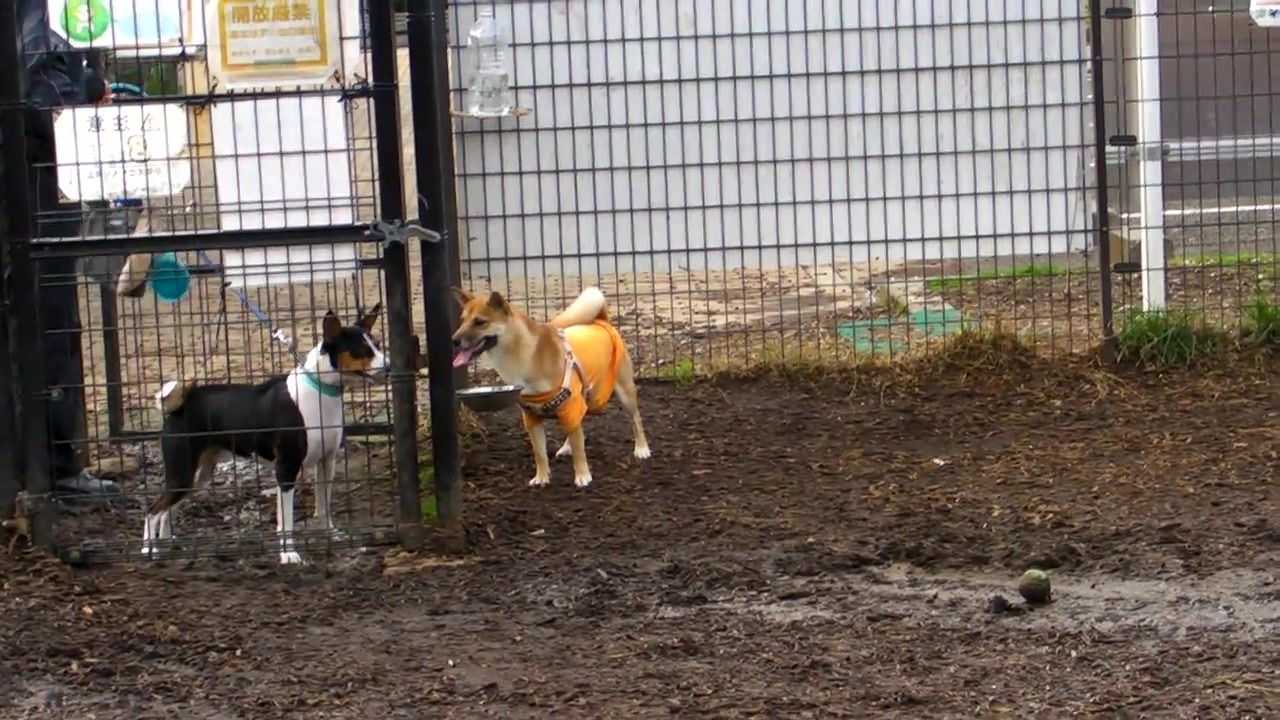dog: (451, 286, 653, 490)
